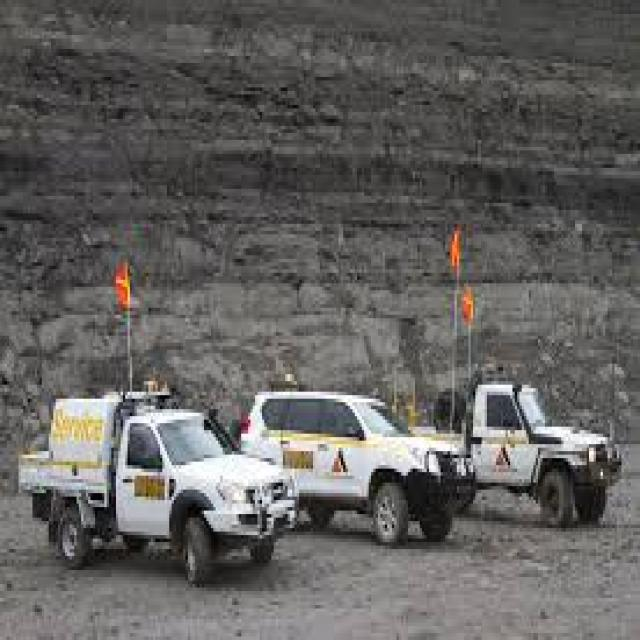light_vehicle: (17, 371, 302, 598), (285, 357, 478, 584), (473, 350, 626, 546)
